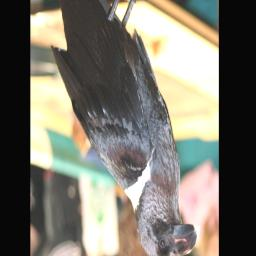Crow: (48, 0, 201, 256)
